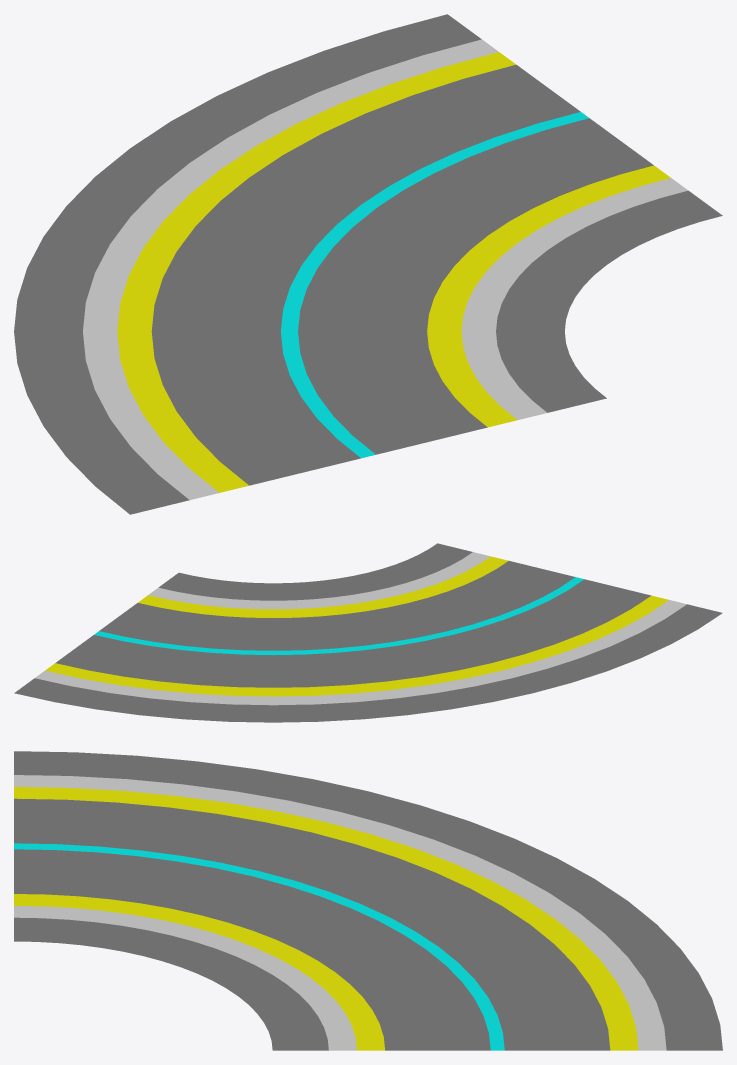
The model's file is roadTurn.fbx.
3 renders of one model, top to bottom at view 1: azimuth 30°, elevation 25°; view 2: azimuth 150°, elevation 25°; view 3: azimuth 270°, elevation 25°, orthographic. The views are drawn at different scales.
Visible parts, largest first — view 1: roadTurn; view 2: roadTurn; view 3: roadTurn.
Part boxes in pixels (x1,y1,x2,y2): roadTurn: (14, 14, 722, 514); roadTurn: (14, 543, 722, 722); roadTurn: (14, 751, 722, 1050).
Size of the model in its own units: 25.19 by 0 by 25.19.
